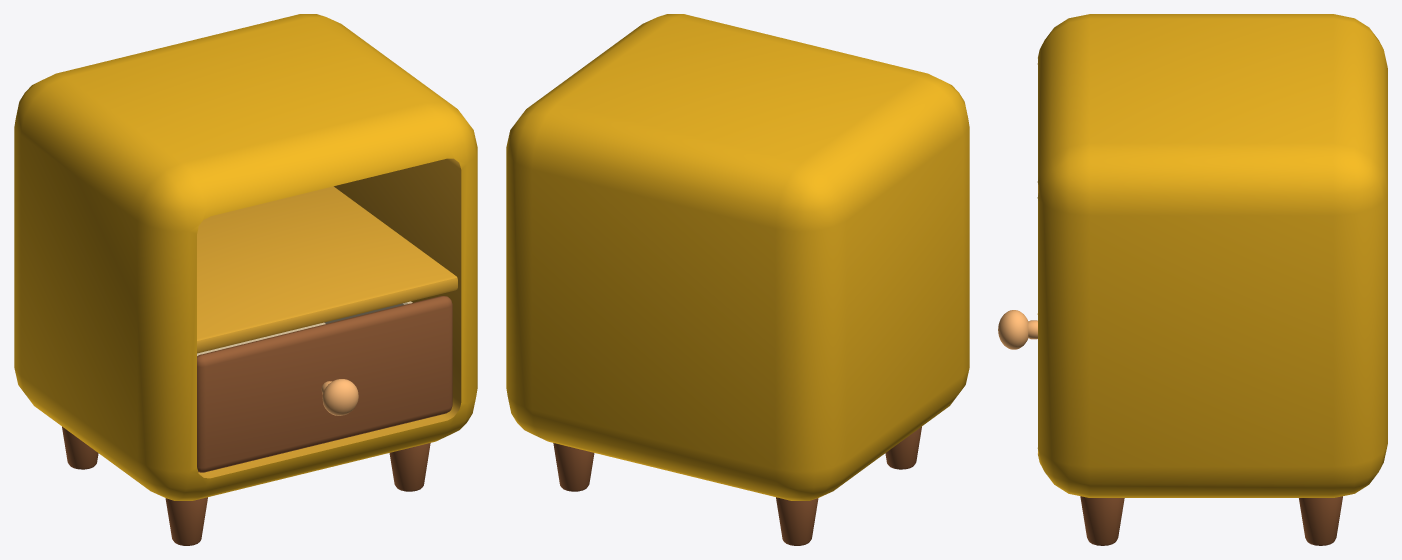
Rendered from criado_cubo_nicho_amarelo.glb.
The picture shows the model from 3 angles, left to right: view 1: azimuth 30°, elevation 25°; view 2: azimuth 150°, elevation 25°; view 3: azimuth 270°, elevation 25°; orthographic projection. The views are drawn at different scales.
Visible parts, largest first — view 1: criado_cubo_nicho_amarelo, gaveta_1; view 2: criado_cubo_nicho_amarelo; view 3: criado_cubo_nicho_amarelo, gaveta_1.
Part boxes in pixels (x1,y1,x2,y2): criado_cubo_nicho_amarelo: (14,14,477,545); gaveta_1: (197,296,452,472); criado_cubo_nicho_amarelo: (506,14,969,545); criado_cubo_nicho_amarelo: (1037,14,1387,545); gaveta_1: (998,310,1037,349).
Size of the model in its own units: 0.48 by 0.53 by 0.4646.
Materials: 1 (1 with a texture image).
